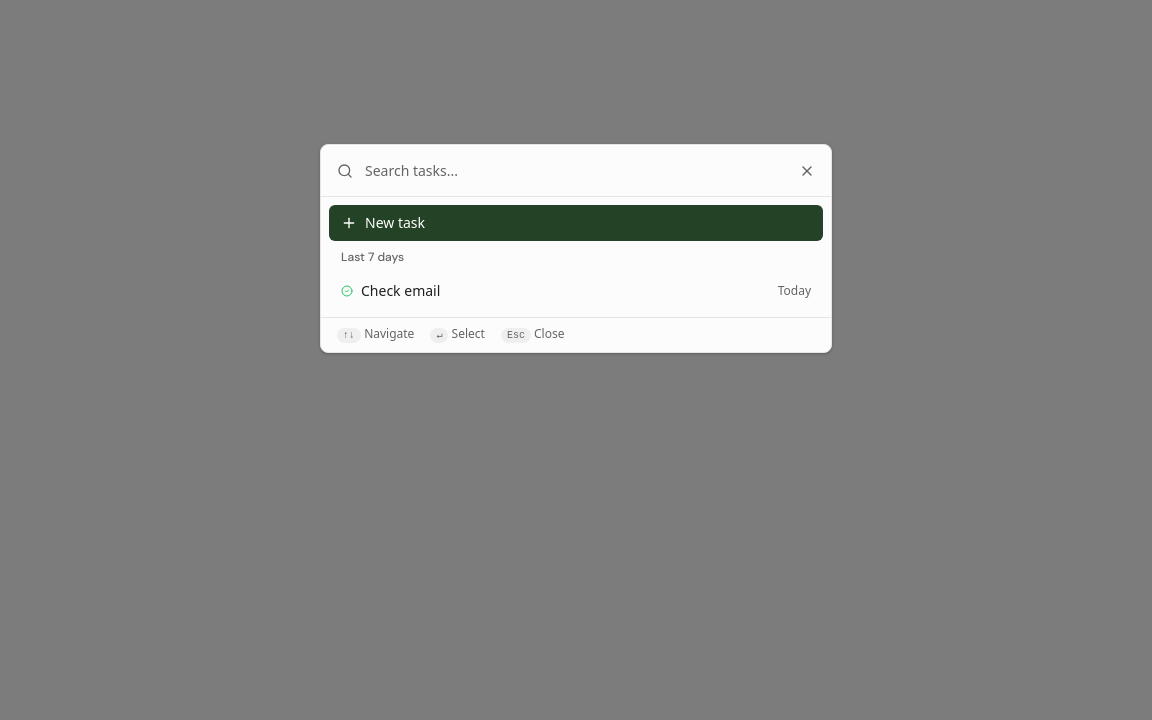
Test case: TaskLauncher › task filtering › should show "Results" section when searching
Type "email" into the field with placeholder "Search tasks...".
click(576, 170); type("email")  # box 365,157 -> 787,184
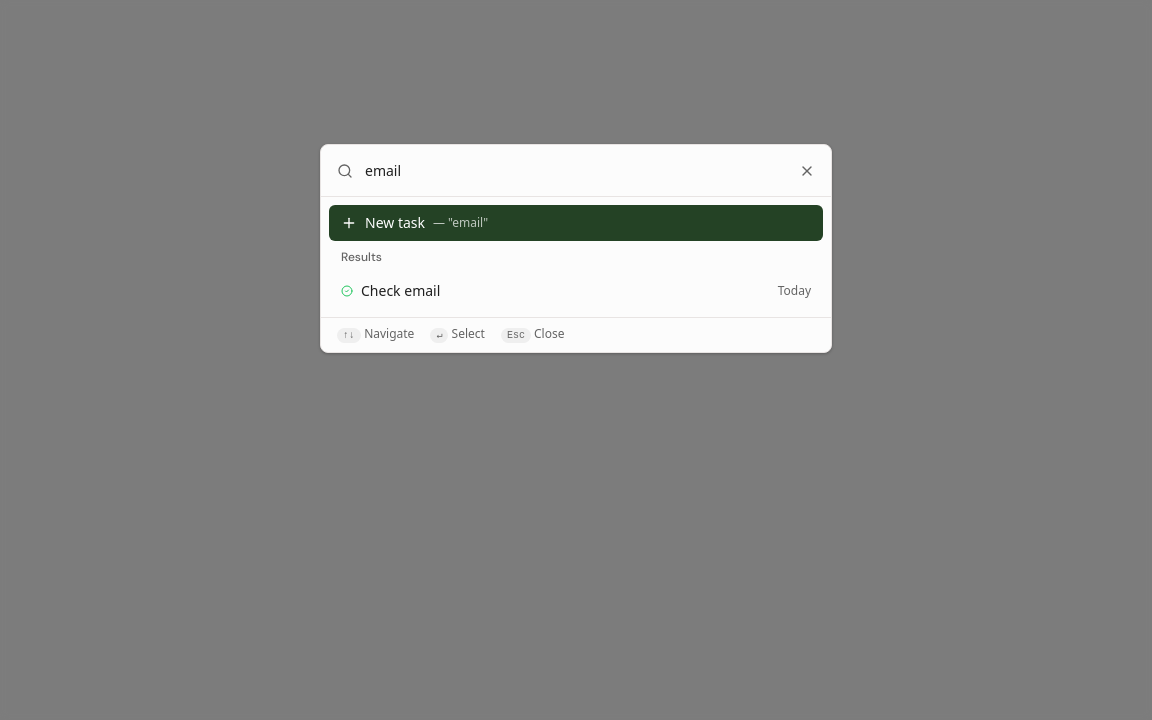
Check: the text "Results" is shown, box 341,249 -> 382,265
